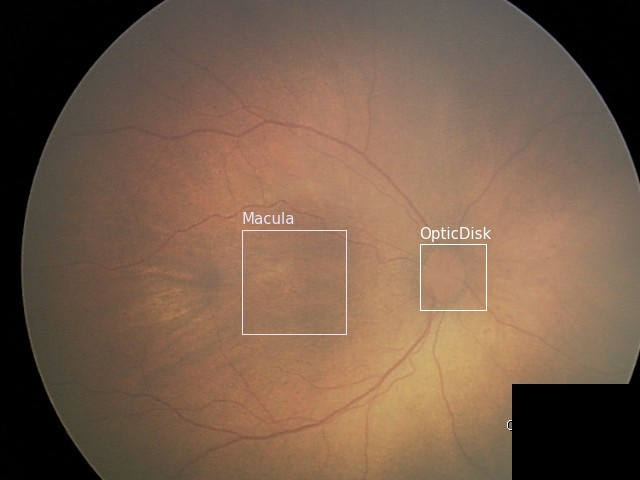Macula: (241, 229, 345, 333)
OpticDisk: (419, 243, 485, 309)
